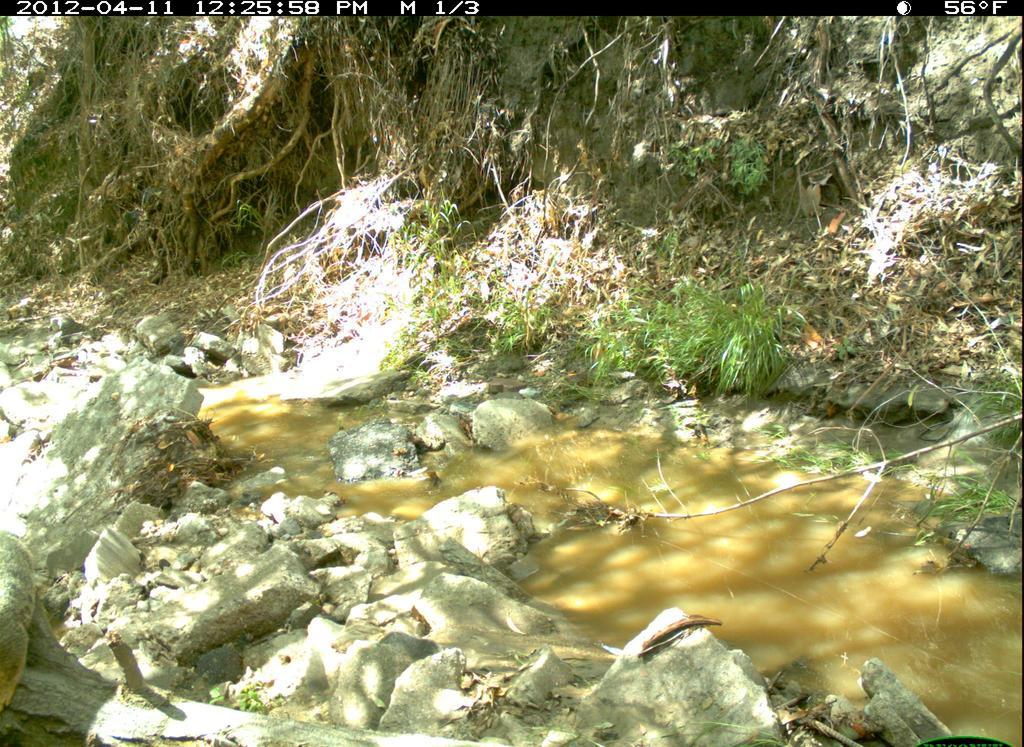squirrel: (2, 530, 48, 725)
